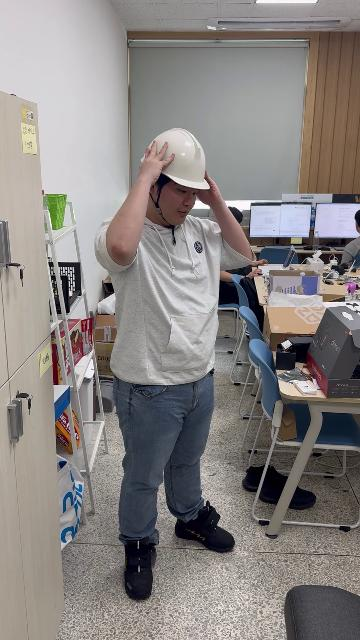helmet_worn: (141, 129, 212, 192)
shoe_not_worn: (244, 463, 313, 508), (242, 463, 276, 492)
shoe_worn: (173, 502, 235, 552), (123, 538, 157, 600)
vest_not_worn: (104, 210, 218, 400)
